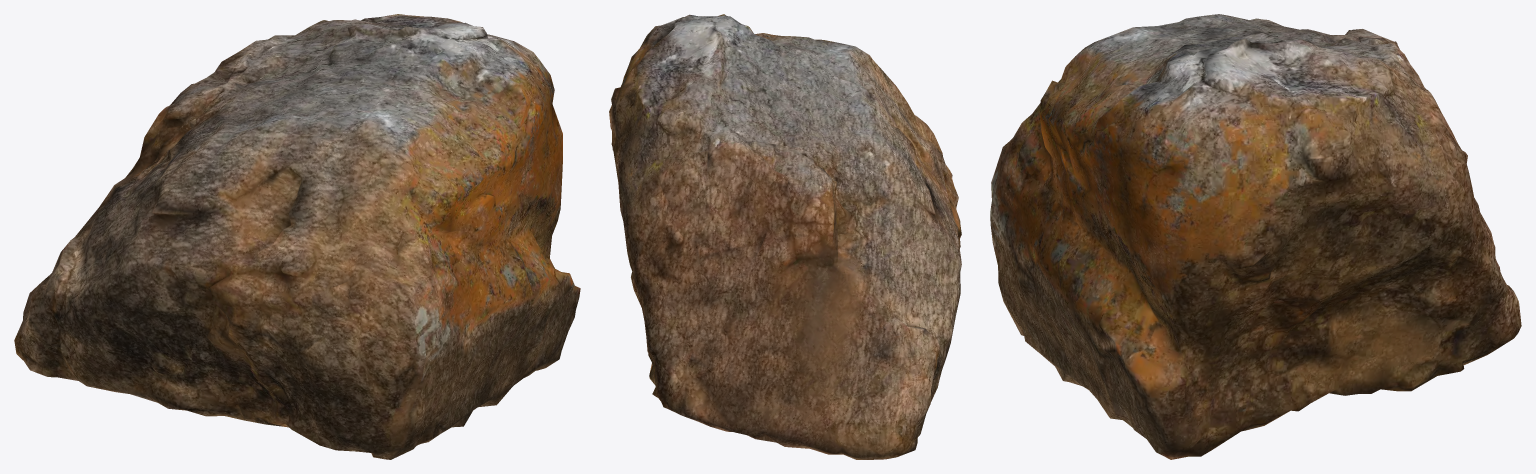
File: namaqualand_boulder_04.light.glb
3 views of the same model, side by side, from view 1: azimuth 30°, elevation 25°; view 2: azimuth 150°, elevation 25°; view 3: azimuth 270°, elevation 25° (orthographic). The views are drawn at different scales.
Visible parts, largest first — view 1: boulder_04; view 2: boulder_04; view 3: boulder_04.
Part boxes in pixels (bbox=[...]): boulder_04: bbox=[14, 14, 580, 459]; boulder_04: bbox=[609, 14, 961, 459]; boulder_04: bbox=[990, 14, 1521, 459].
Bounding box in the file's own units: 2 × 1.5 × 1.97.
1 material, 1 textured.
